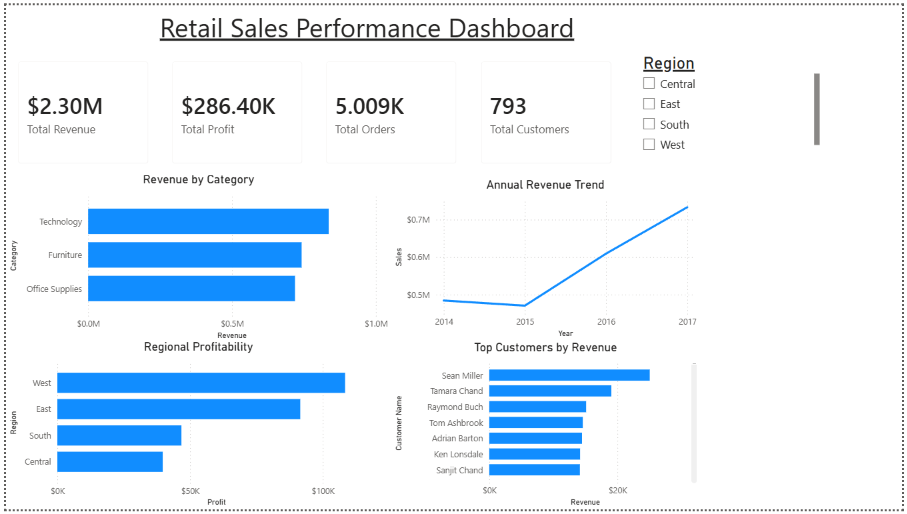

This screenshot's page, from the dashboard's own definition file:
{"tool":"powerbi","page":{"name":"Executive Overview","canvas":[1280,720],"ordinal":0},"visuals":[{"type":"clusteredBarChart","title":"Revenue by Category","fields":{"Category":["Sample - Superstore.Category"],"Y":["Sum(Sample - Superstore.Sales)"]},"box":[0,238,550,243],"z":0},{"type":"clusteredBarChart","title":"Regional Profitability","fields":{"Category":["Sample - Superstore.Region"],"Y":["Sum(Sample - Superstore.Profit)"]},"box":[0,476.7,550,243.3],"z":1000},{"type":"lineChart","title":"Annual Revenue Trend","fields":{"Category":["Sample - Superstore.Order Date.Variation.Date Hierarchy.Year","Sample - Superstore.Order Date.Variation.Date Hierarchy.Quarter","Sample - Superstore.Order Date.Variation.Date Hierarchy.Month","Sample - Superstore.Order Date.Variation.Date Hierarchy.Day"],"Y":["Sum(Sample - Superstore.Sales)"]},"box":[550,245,441,233],"z":2000},{"type":"clusteredBarChart","title":"Top Customers by Revenue","fields":{"Category":["Sample - Superstore.Customer Name"],"Y":["Sum(Sample - Superstore.Sales)"]},"box":[550,478.3,441.7,241.7],"z":3000},{"type":"cardVisual","fields":{"Data":["Sum(Sample - Superstore.Sales)"]},"box":[0,63.3,220,180],"z":4000},{"type":"cardVisual","fields":{"Data":["Sum(Sample - Superstore.Profit)"]},"box":[220,63.3,220,180],"z":5000},{"type":"cardVisual","fields":{"Data":["Count(Sample - Superstore.Order ID)"]},"box":[440,63.3,220,180],"z":6000},{"type":"cardVisual","fields":{"Data":["Count(Sample - Superstore.Customer ID)"]},"box":[661.7,63.3,220,180],"z":7000},{"type":"slicer","fields":{"Values":["Sample - Superstore.Region"]},"box":[896.7,63.3,270,153.3],"z":8000},{"type":"textbox","box":[0,0,1031.4,62.9],"z":8002}]}

Visuals, with their boxes in screenshot pixels (x1, y1, x2, y2), scaled from the page's 1280x720 canvas onto the 907x514 screenshot:
"Revenue by Category" clusteredBarChart: (left=0, top=170, right=390, bottom=343)
"Regional Profitability" clusteredBarChart: (left=0, top=340, right=390, bottom=513)
"Annual Revenue Trend" lineChart: (left=390, top=175, right=702, bottom=341)
"Top Customers by Revenue" clusteredBarChart: (left=390, top=341, right=703, bottom=513)
cardVisual - Sum(Sample - Superstore.Sales): (left=0, top=45, right=156, bottom=174)
cardVisual - Sum(Sample - Superstore.Profit): (left=156, top=45, right=312, bottom=174)
cardVisual - Count(Sample - Superstore.Order ID): (left=312, top=45, right=468, bottom=174)
cardVisual - Count(Sample - Superstore.Customer ID): (left=469, top=45, right=625, bottom=174)
slicer - Sample - Superstore.Region: (left=635, top=45, right=827, bottom=155)
textbox: (left=0, top=0, right=731, bottom=45)
